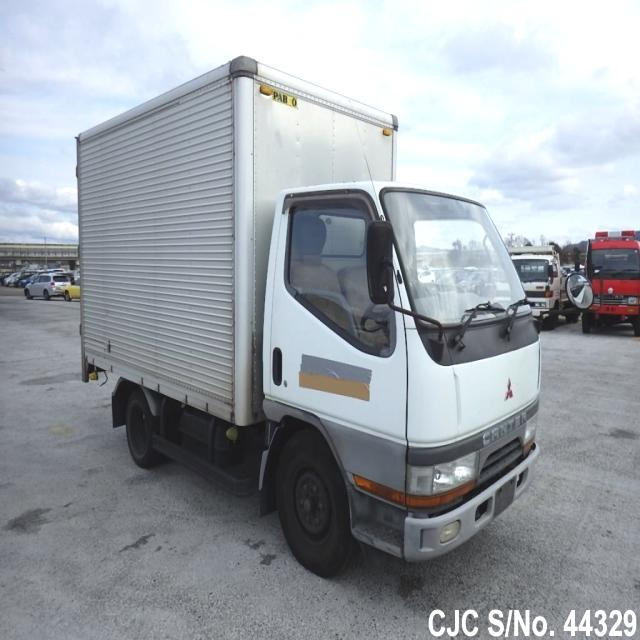truck: (77, 55, 544, 576)
